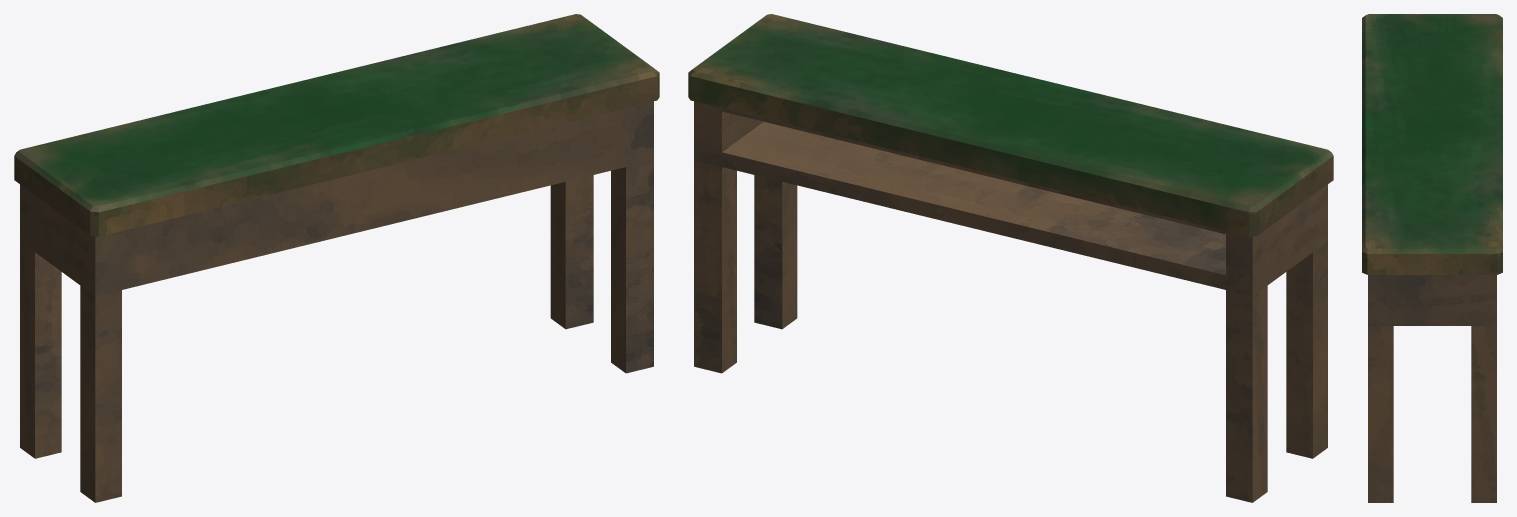
The model's file is 장애물_책상.fbx.
3 renders of one model, left to right at view 1: azimuth 30°, elevation 25°; view 2: azimuth 150°, elevation 25°; view 3: azimuth 270°, elevation 25°, orthographic. The views are drawn at different scales.
Visible parts, largest first — view 1: 책상; view 2: 책상; view 3: 책상.
Boxes of the visible parts, bbox=[...] form: 책상: bbox=[14, 14, 659, 502]; 책상: bbox=[688, 14, 1333, 502]; 책상: bbox=[1362, 14, 1502, 502].
Bounding box in the file's own units: 200 × 99.68 × 50.
1 material, 1 textured.
